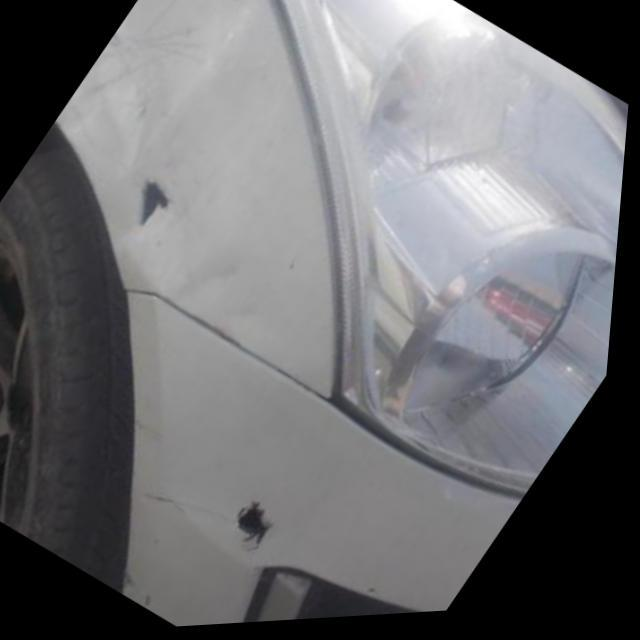crack: (243, 497, 288, 556), (140, 177, 182, 236), (127, 573, 170, 614)
scratch: (154, 484, 242, 536)
